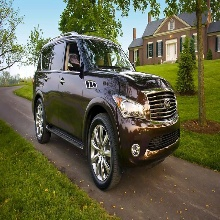no damage: (32, 32, 181, 191)
